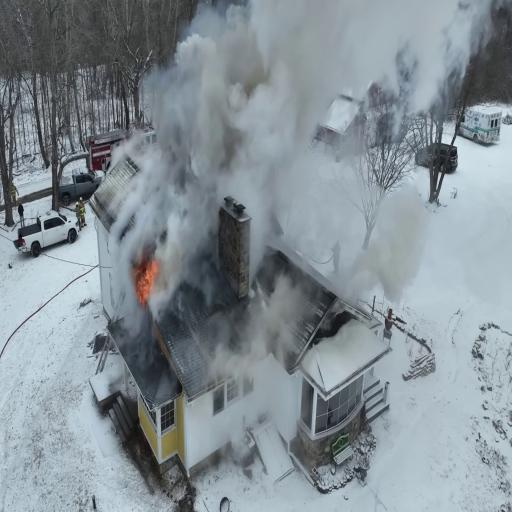fire: (134, 249, 162, 303)
smoke: (195, 0, 386, 190)
